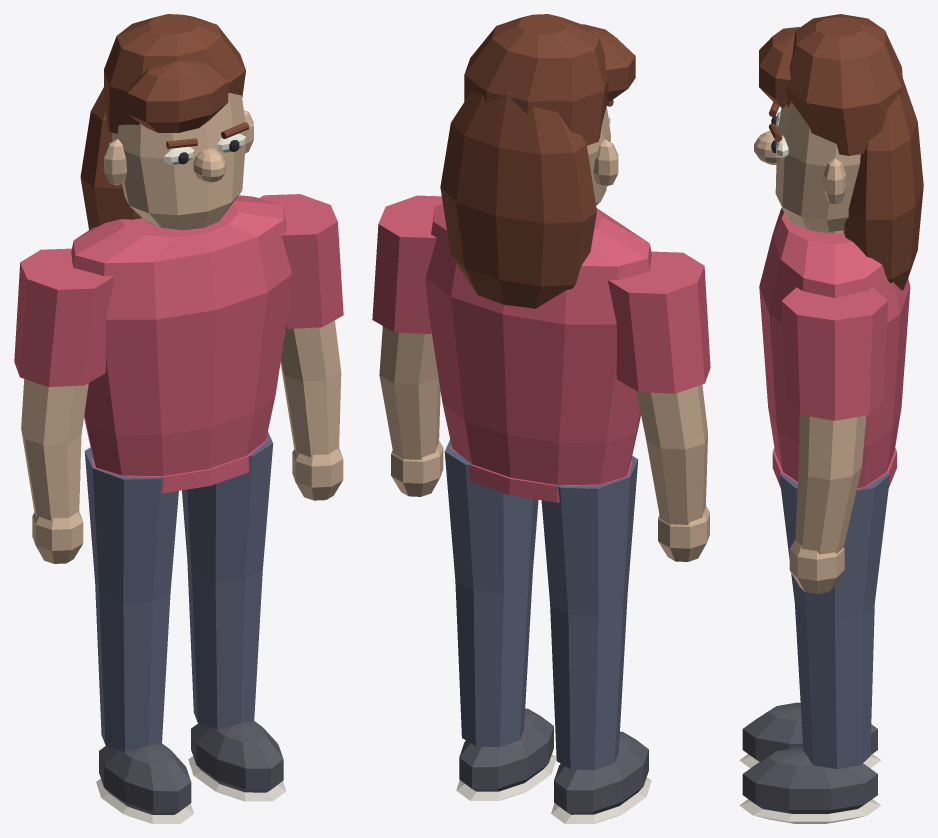
3 renders of one model, left to right at view 1: azimuth 30°, elevation 25°; view 2: azimuth 150°, elevation 25°; view 3: azimuth 270°, elevation 25°, orthographic. The views are drawn at different scales.
Parts seen in each view (by area): view 1: Torso, Leg, Leg.001, Sleeve, Face, Hair, Arm, Sleeve.001, Arm.001, Fringe, Shoe.001, Shoe (+8 smaller); view 2: Torso, LongHair, Leg, Leg.001, Hair, Sleeve, Arm, Sleeve.001, Arm.001, Shoe, Shoe.001, Hand.001 (+7 smaller); view 3: Leg.001, Torso, Sleeve.001, Hair, LongHair, Arm.001, Shoe.001, Face, Shoe, Hand.001, Fringe, Sole.001 (+3 smaller).
Boxes of the visible parts, box(x1,y1,x2,y2) form: Torso: box(71, 195, 292, 476); Leg: box(84, 447, 178, 752); Leg.001: box(182, 432, 273, 729); Sleeve: box(14, 248, 114, 386); Face: box(112, 93, 246, 230); Hair: box(104, 14, 245, 133); Arm: box(21, 379, 88, 520); Sleeve.001: box(259, 194, 343, 328); Arm.001: box(280, 320, 341, 457); Fringe: box(127, 60, 228, 132); Shoe.001: box(191, 721, 283, 792); Shoe: box(99, 743, 191, 814); Torso: box(425, 204, 651, 485); LongHair: box(440, 91, 596, 308); Leg: box(541, 456, 638, 770); Leg.001: box(444, 439, 538, 747); Hair: box(464, 14, 608, 145); Sleeve: box(608, 251, 710, 393); Arm: box(636, 385, 707, 524); Sleeve.001: box(372, 195, 442, 333); Arm.001: box(379, 326, 440, 459); Shoe: box(554, 731, 648, 814); Shoe.001: box(459, 708, 553, 791); Hand.001: box(391, 441, 443, 496); Leg.001: box(779, 473, 890, 768); Torso: box(759, 208, 910, 488); Sleeve.001: box(781, 287, 887, 420); Hair: box(785, 14, 902, 155); LongHair: box(843, 72, 923, 290); Arm.001: box(795, 415, 866, 554); Shoe.001: box(742, 747, 877, 813); Face: box(775, 102, 860, 231); Shoe: box(742, 702, 877, 761); Hand.001: box(789, 540, 844, 593); Fringe: box(759, 27, 799, 108); Sole.001: box(739, 799, 880, 823).
Bounding box in the file's own units: 0.828 × 1.9 × 0.415.
